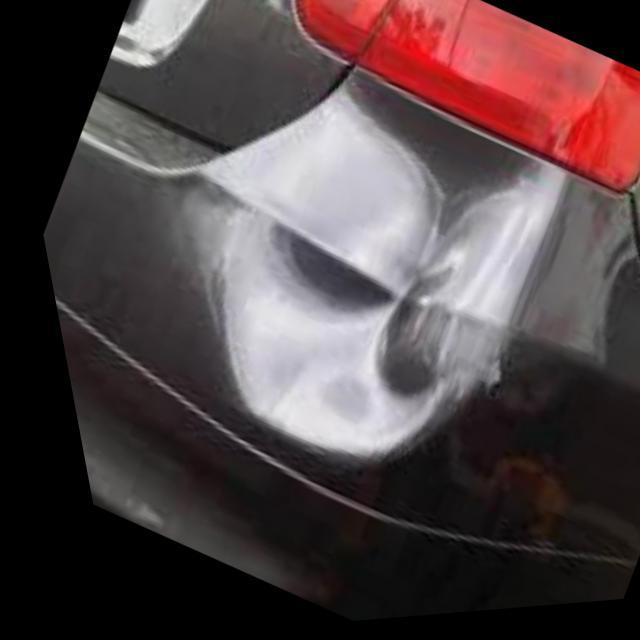dent: (173, 70, 572, 463)
